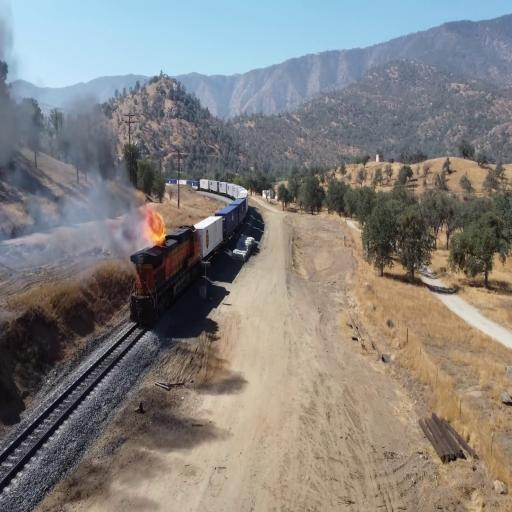fire: (145, 205, 171, 249)
